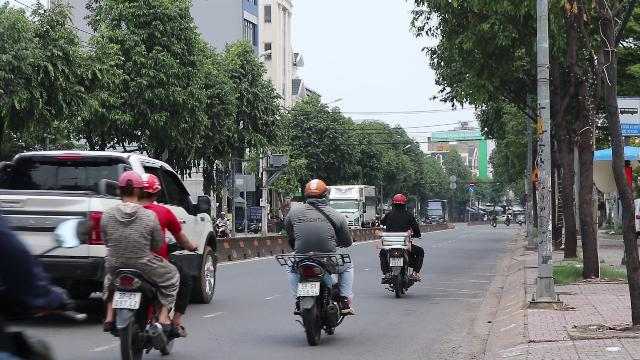helmet: (115, 170, 143, 202), (139, 172, 161, 202), (302, 178, 328, 202), (391, 192, 407, 208)
licenseplate: (113, 292, 141, 308), (297, 282, 319, 296), (390, 258, 402, 266)
motorcyclist: (95, 169, 191, 358), (282, 176, 356, 342), (376, 193, 424, 297)
